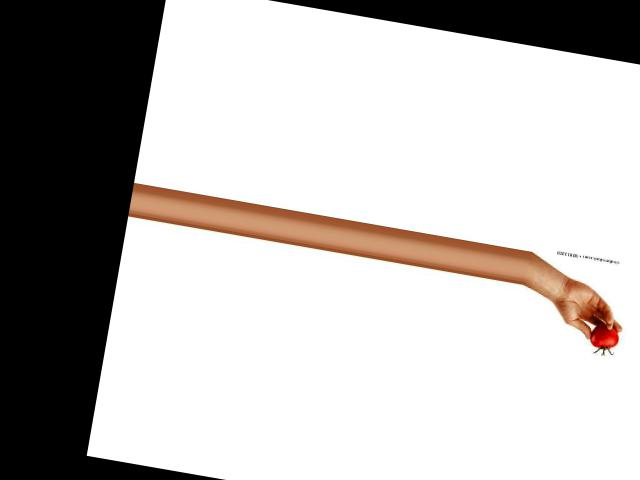tomato: (588, 321, 620, 350)
